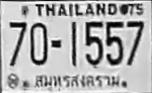0: (30, 22, 48, 65)
1: (70, 21, 76, 66)
5: (84, 21, 102, 66), (106, 22, 122, 64)
7: (8, 21, 26, 66), (126, 20, 143, 65)
SKM: (32, 72, 122, 92)
